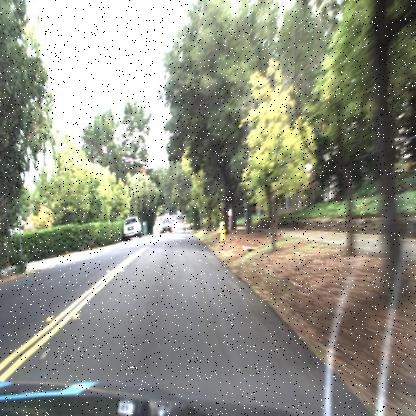car: (122, 212, 142, 238), (163, 213, 172, 233)
